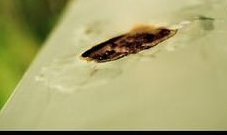Corrosion: (80, 23, 179, 64)
